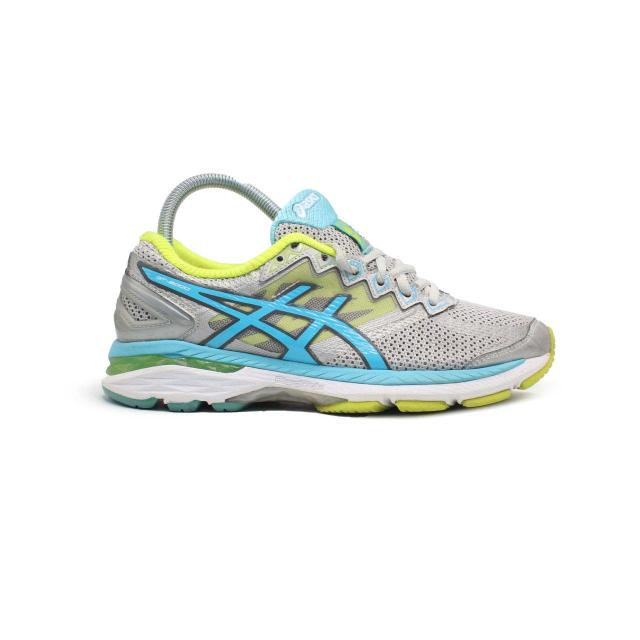heel: (113, 229, 174, 339)
midsole: (102, 332, 555, 412)
uppersole: (172, 189, 555, 366)
